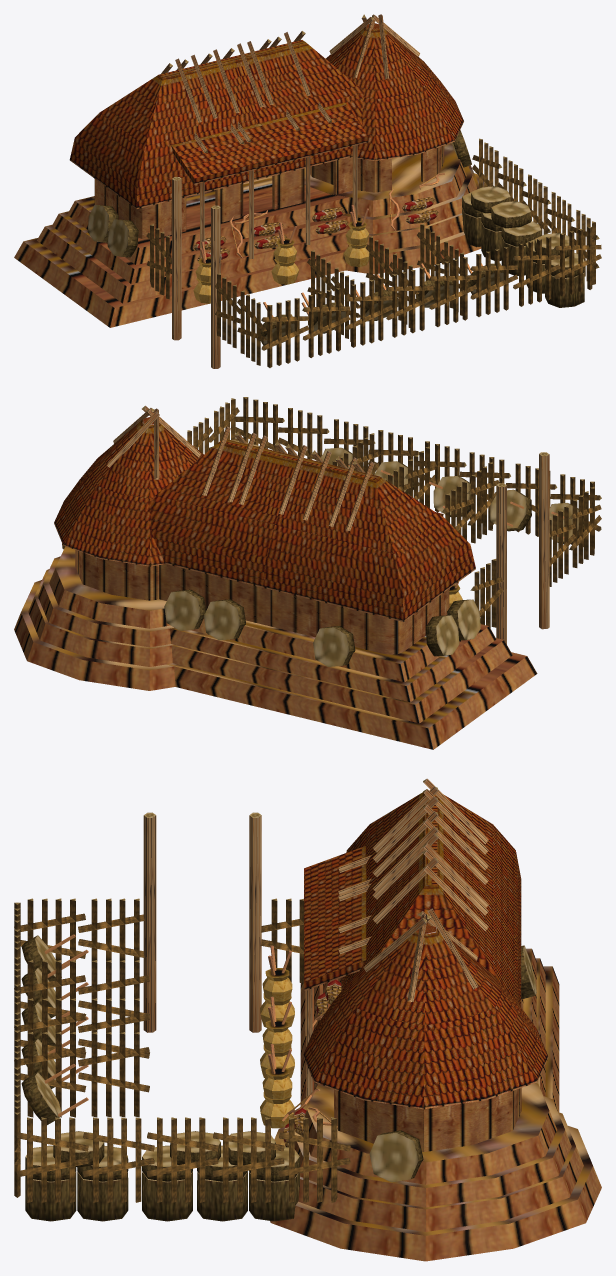
File: range.dae
3 renders of one model, top to bottom at view 1: azimuth 30°, elevation 25°; view 2: azimuth 150°, elevation 25°; view 3: azimuth 270°, elevation 25°, orthographic. The views are drawn at different scales.
Parts seen in each view (by area): view 1: range; view 2: range; view 3: range.
Boxes of the visible parts, x1,y1,x2,y2 form: range: (14,14,601,368); range: (14,397,601,749); range: (14,778,601,1261).
Size of the model in its own units: 37.11 by 33.17 by 17.99.
